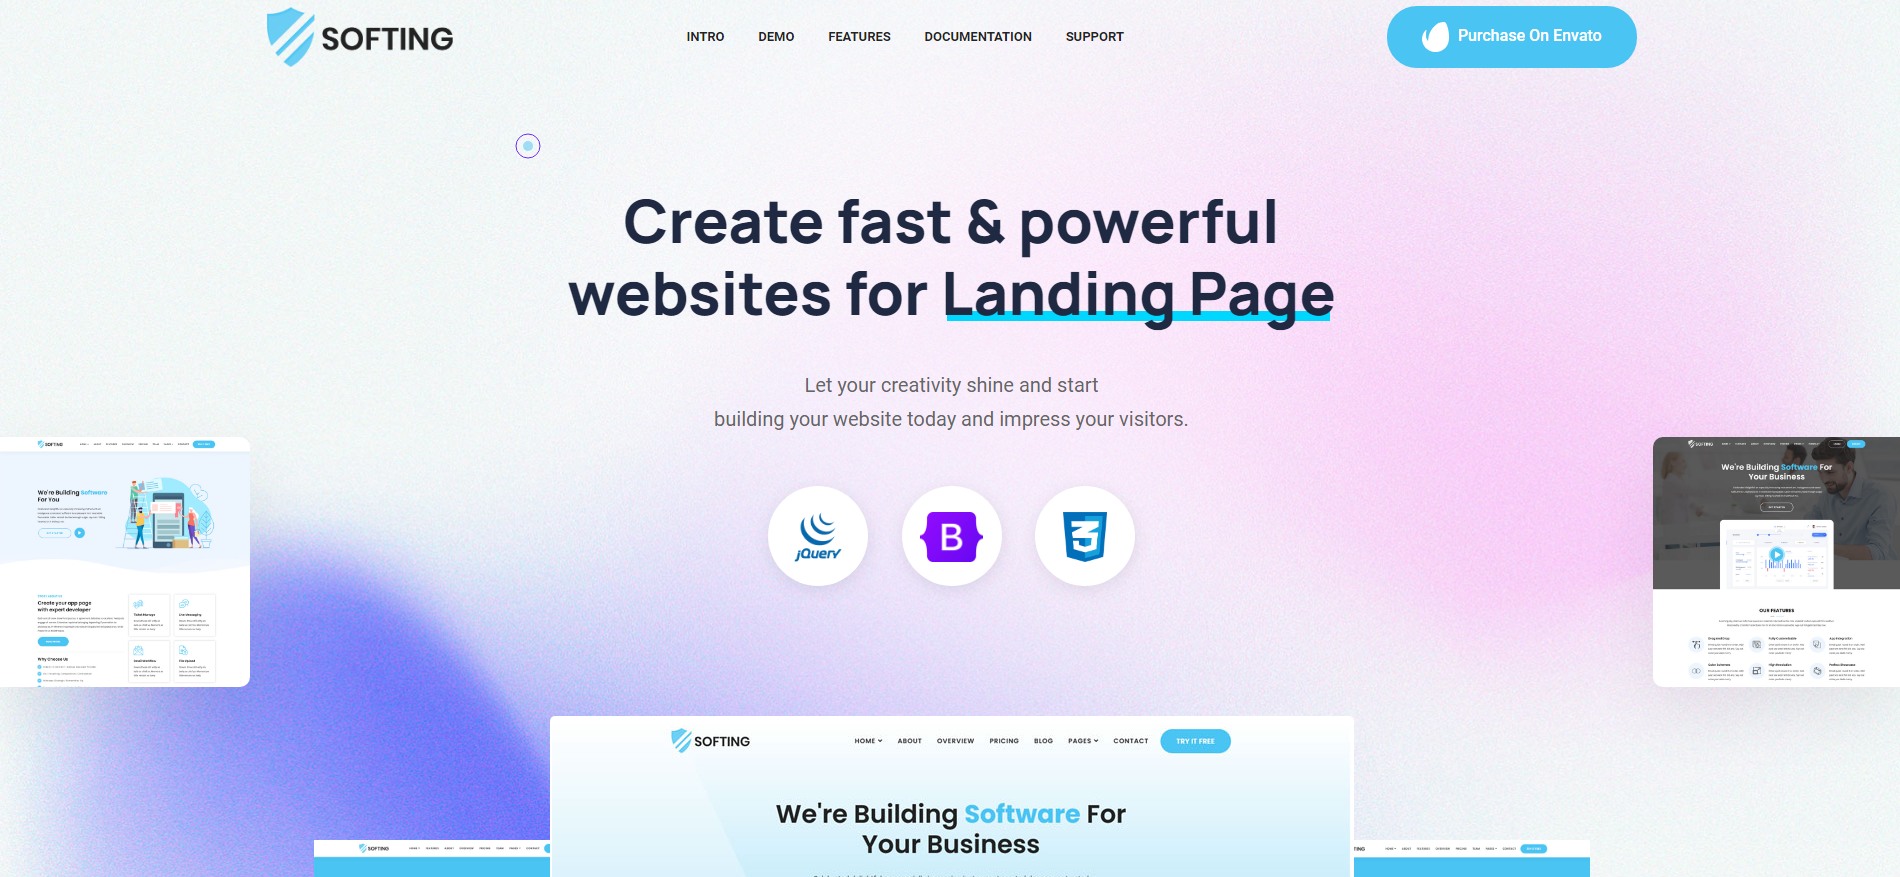menu-bar: (7, 10, 1898, 167)
